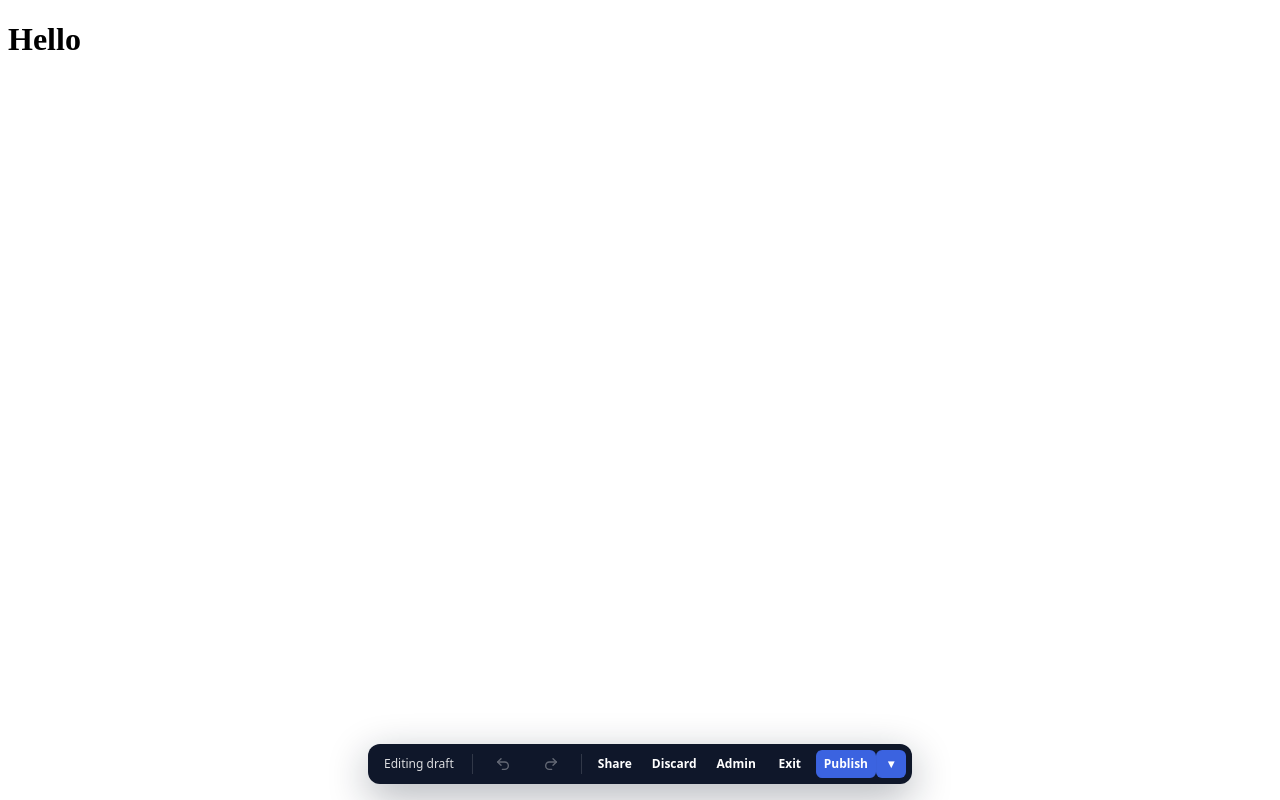
Test case: dock actions › a conflict offers "Reload latest"
Check: the message with test id "onpage-status" reads "Editing draft", box [384,755,454,772]
Click the heading "Hello": click(44, 39) [8,21,81,57]
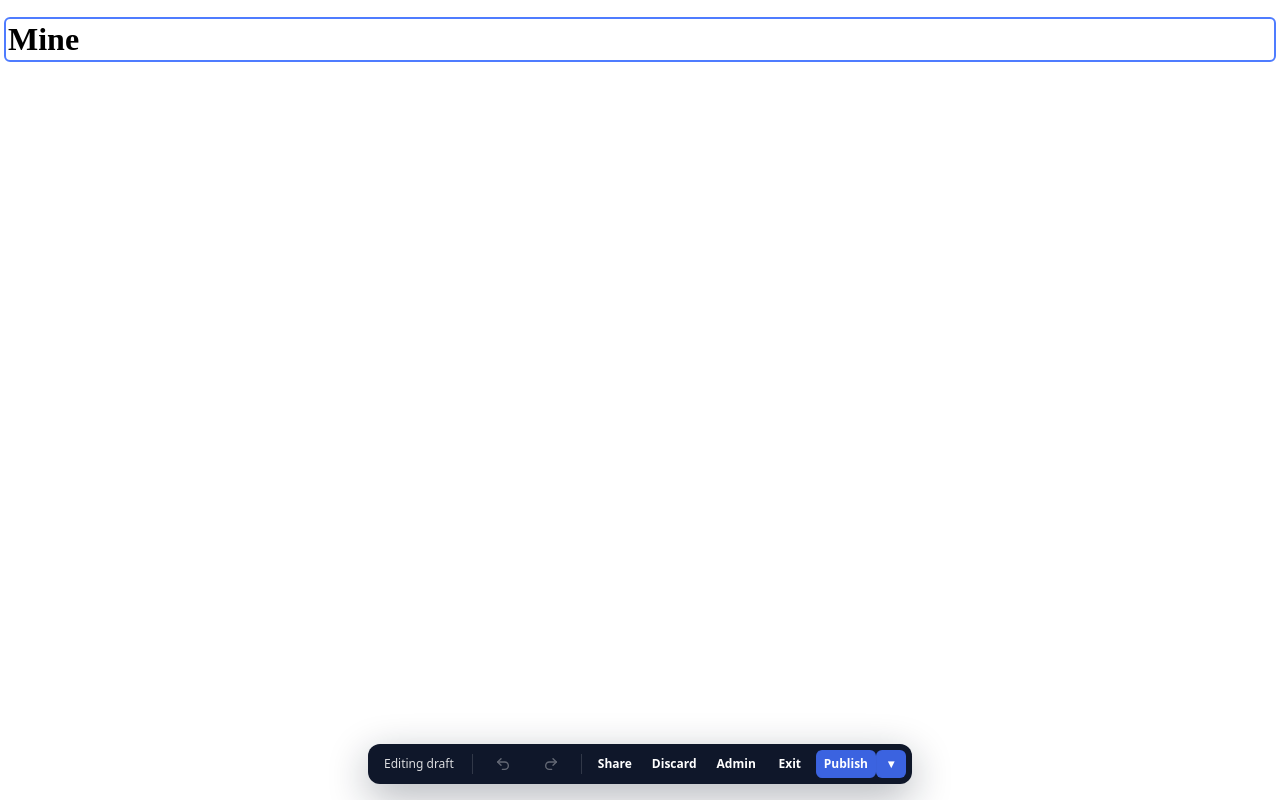
Press Enter in the field with test id "onpage-inline-text", box [8,21,79,57]
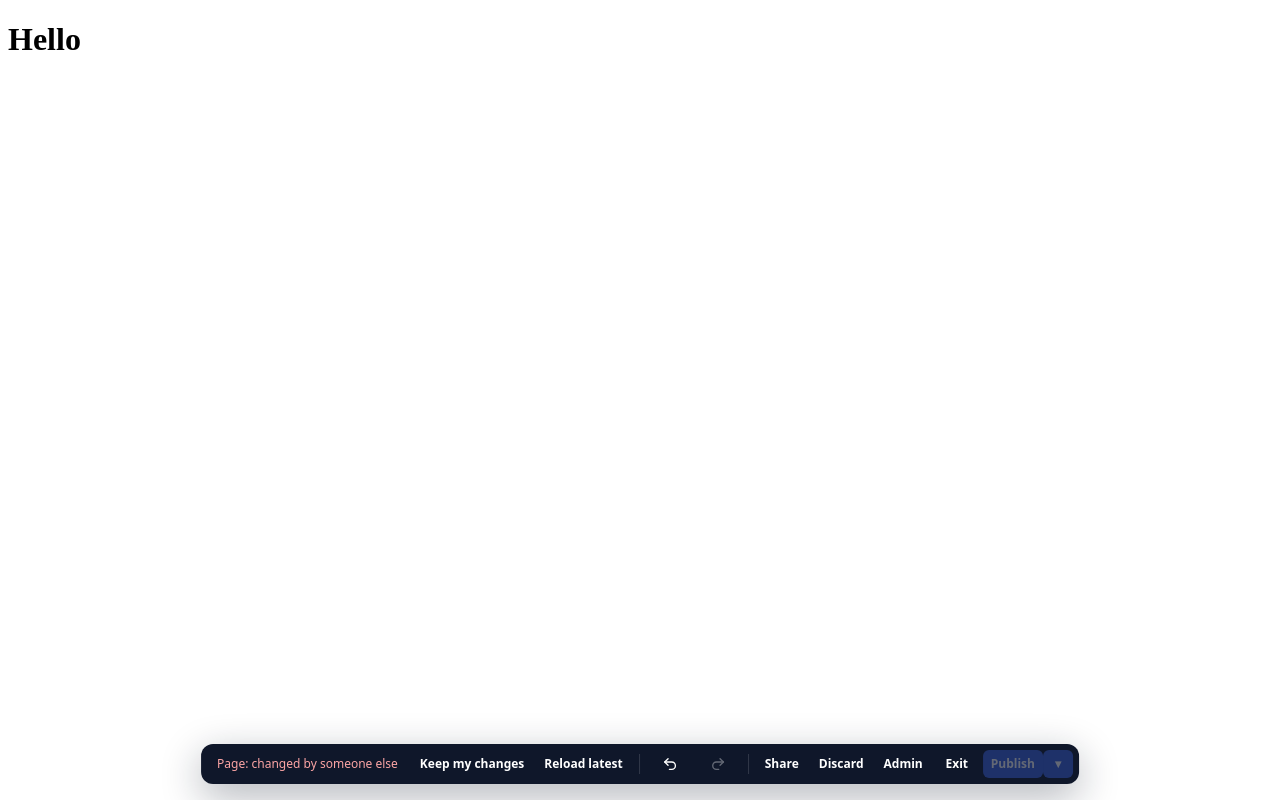
Check: the button with test id "onpage-reload" is shown, box [536,750,631,778]
Check: the message with test id "onpage-status" shows "changed by someone else", box [217,755,398,772]
Check: the button with test id "onpage-publish" is disabled, box [983,750,1043,778]
